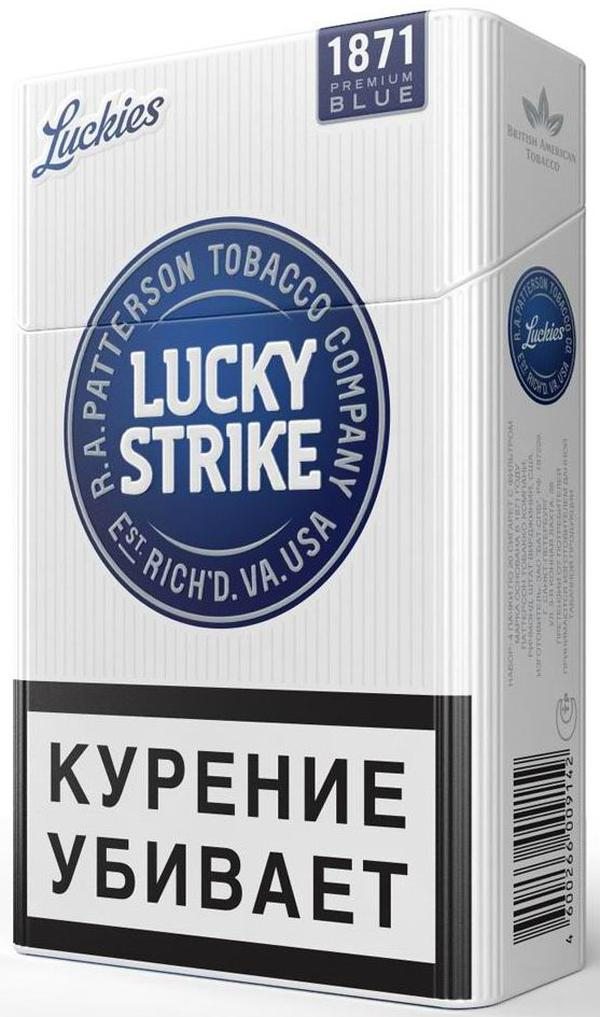lucky_strike_blue: (10, 66, 487, 943)
